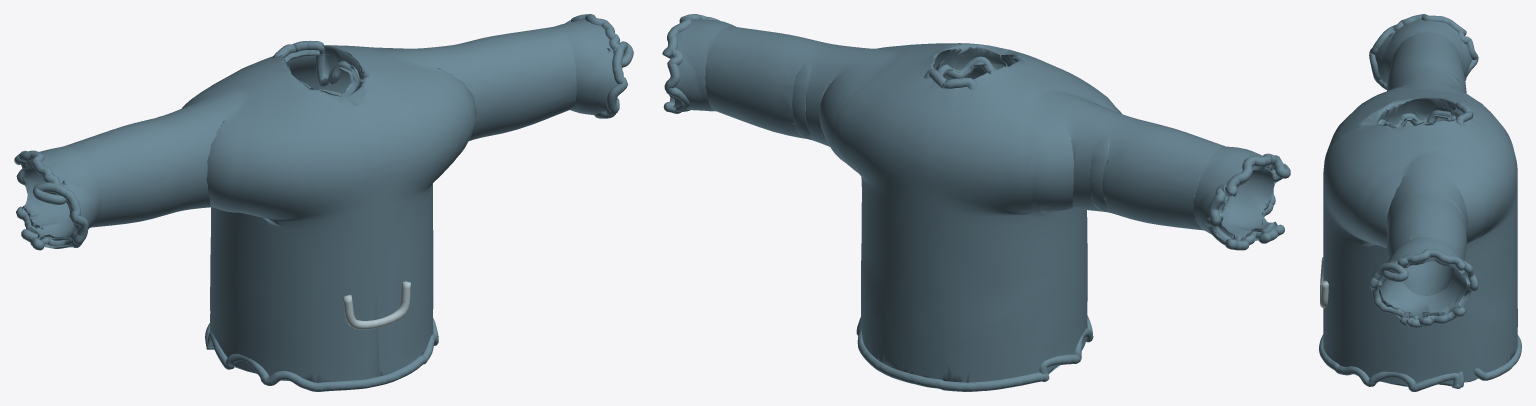
Rendered from 4HT-masculino.glb.
3 renders of one model, left to right at view 1: azimuth 30°, elevation 25°; view 2: azimuth 150°, elevation 25°; view 3: azimuth 270°, elevation 25°, orthographic. The views are drawn at different scales.
Parts seen in each view (by area): view 1: fitted-shell, bound-edge (×4), pocket-seam; view 2: fitted-shell, bound-edge (×4); view 3: fitted-shell, bound-edge (×4), pocket-seam.
Boxes of the visible parts, x1,y1,x2,y2 form: fitted-shell: [21, 19, 617, 382]; bound-edge (×4): [14, 14, 633, 391]; pocket-seam: [342, 281, 410, 329]; fitted-shell: [669, 19, 1280, 382]; bound-edge (×4): [662, 14, 1290, 391]; fitted-shell: [1323, 19, 1517, 386]; bound-edge (×4): [1319, 14, 1521, 391]; pocket-seam: [1320, 257, 1328, 307].
Bounding box in the file's own units: 0.0914 × 0.0412 × 0.0312.
